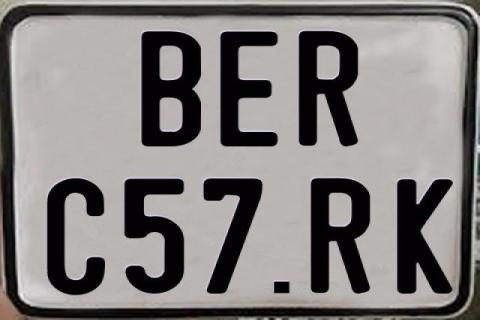0: (200, 178, 262, 298), (123, 176, 183, 293)
B: (141, 29, 201, 149)
C: (48, 178, 110, 296)
E: (220, 29, 281, 149)
K: (395, 178, 451, 292)
R: (297, 29, 357, 149), (308, 176, 369, 291)
